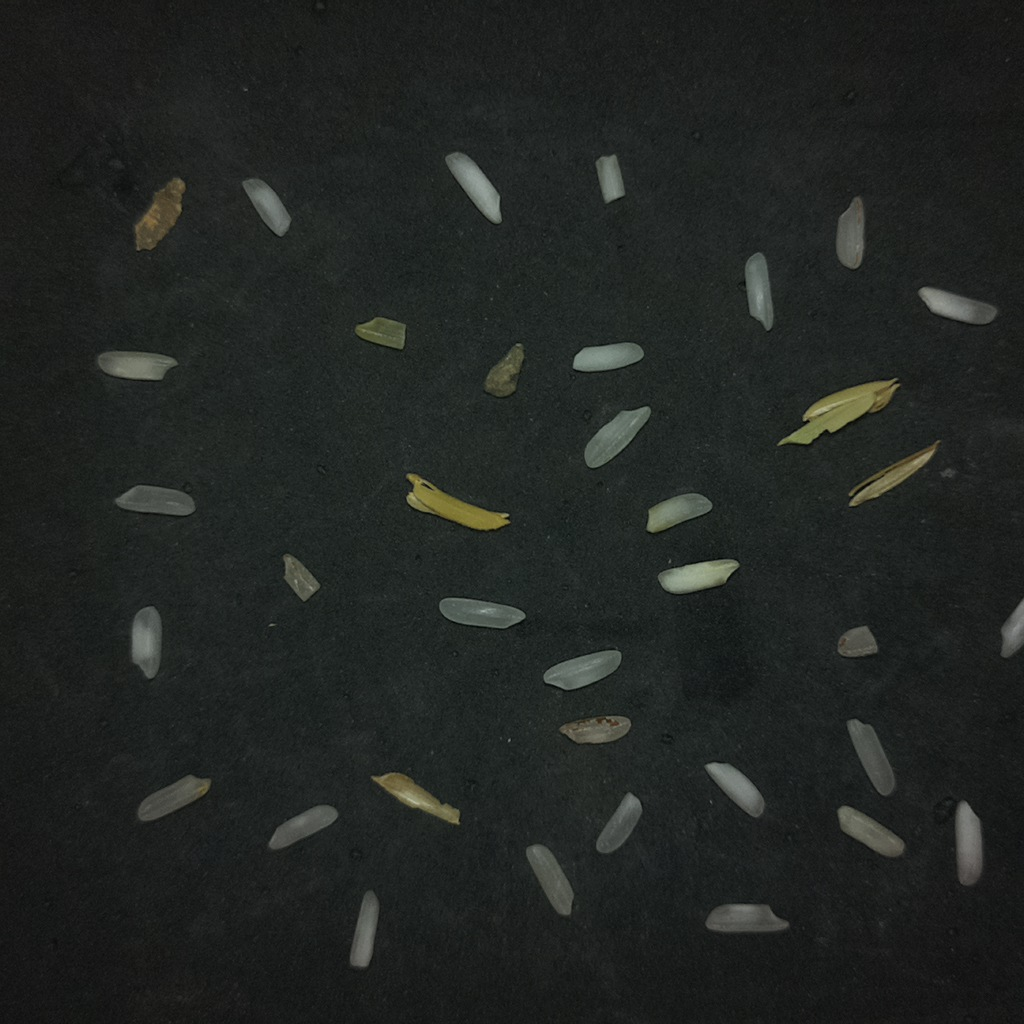broken: (837, 805, 904, 857), (543, 649, 621, 690), (595, 792, 641, 853), (439, 597, 525, 628), (1001, 600, 1024, 659)
chalky: (445, 152, 501, 223), (704, 762, 764, 817), (918, 287, 996, 324), (242, 178, 290, 236), (658, 559, 738, 593), (97, 350, 177, 380), (955, 800, 982, 885), (349, 890, 378, 968), (131, 606, 161, 679), (573, 342, 643, 372), (595, 154, 624, 203)
discolored: (646, 493, 711, 532), (354, 317, 406, 349)
foreign: (134, 177, 185, 250), (484, 343, 524, 397)
paddy: (849, 441, 939, 506), (770, 394, 882, 446), (406, 474, 509, 530), (371, 772, 459, 824), (802, 378, 899, 420)
red: (559, 715, 630, 744), (837, 196, 864, 268), (282, 553, 320, 601), (837, 626, 878, 657)
whole: (584, 406, 649, 468), (846, 719, 895, 795), (137, 774, 210, 821), (526, 844, 573, 915), (268, 805, 337, 850), (705, 903, 788, 933), (115, 486, 195, 516), (745, 252, 773, 330)
